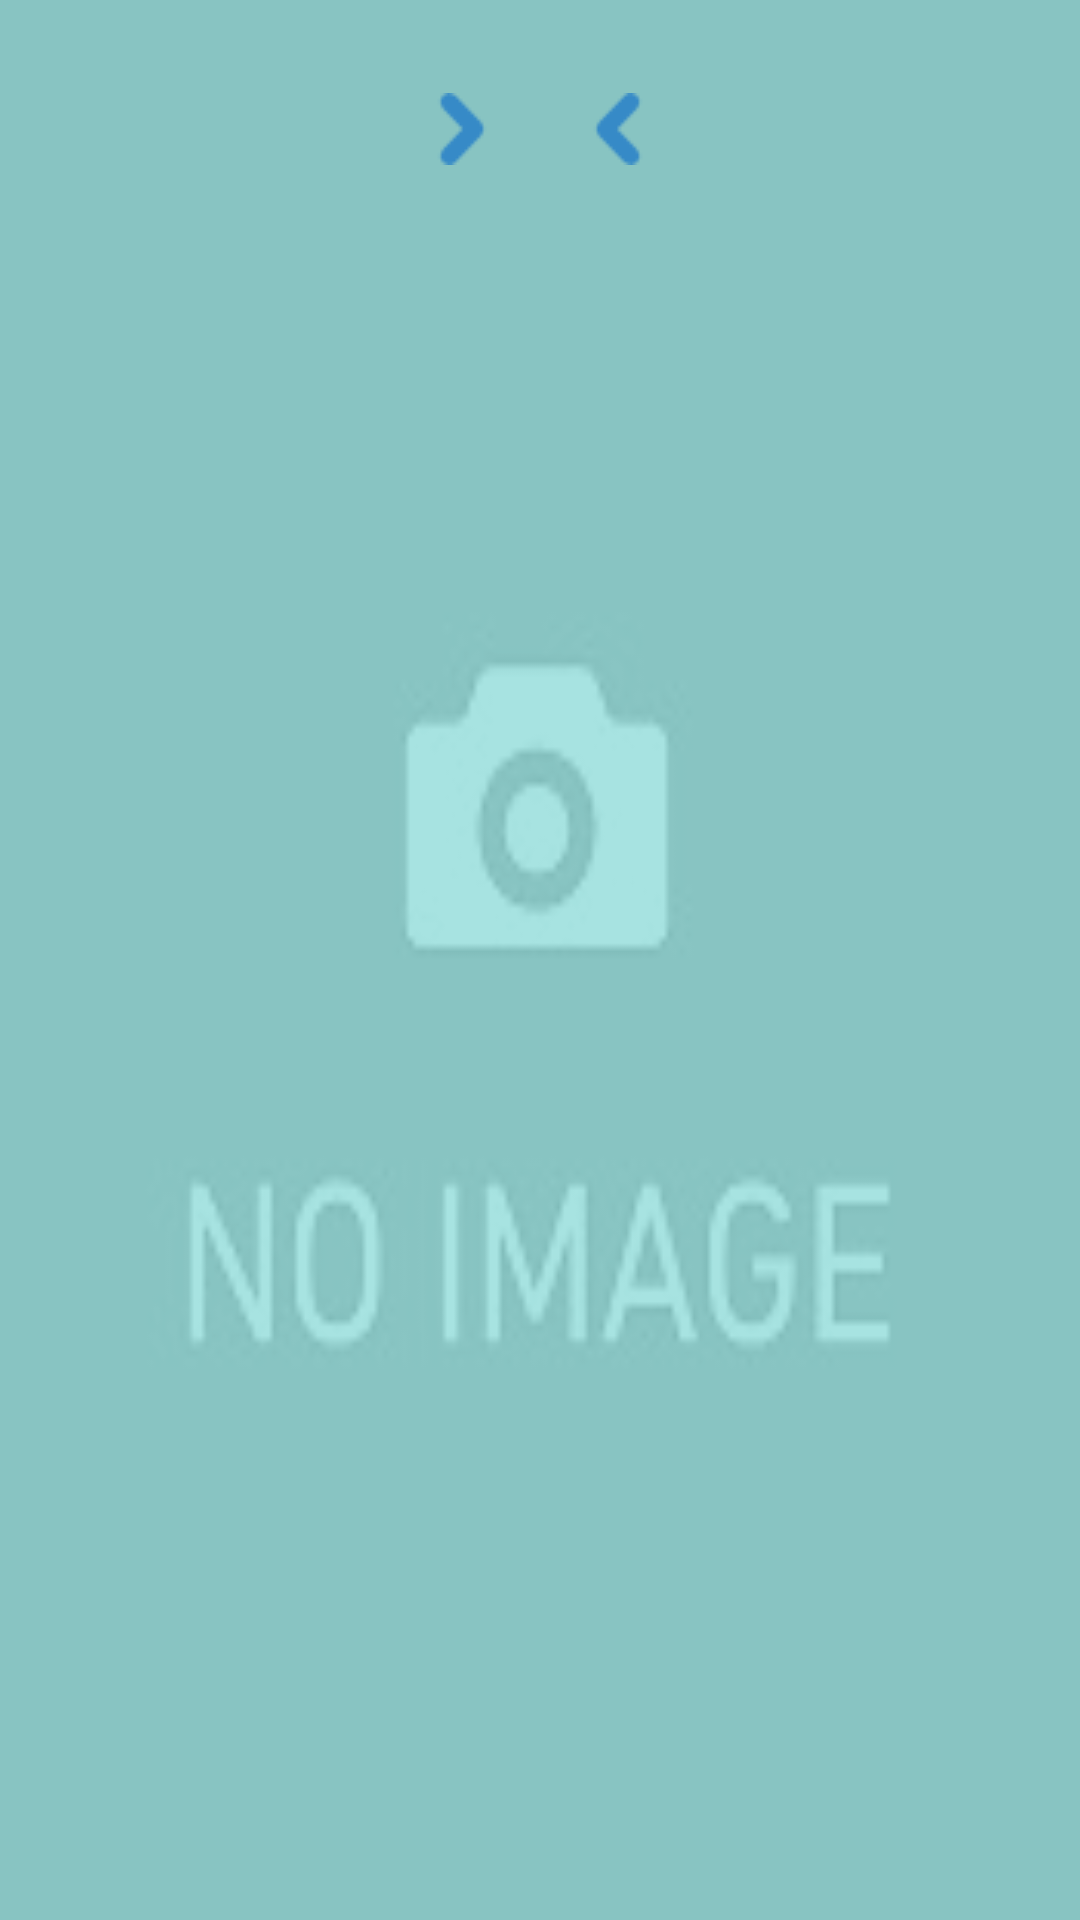

Icon bounding boxes for this 1080px×1920px phone screenshot, format (x1, y1, x2, y2):
next: (440, 93, 484, 165)
previous: (596, 93, 640, 165)
